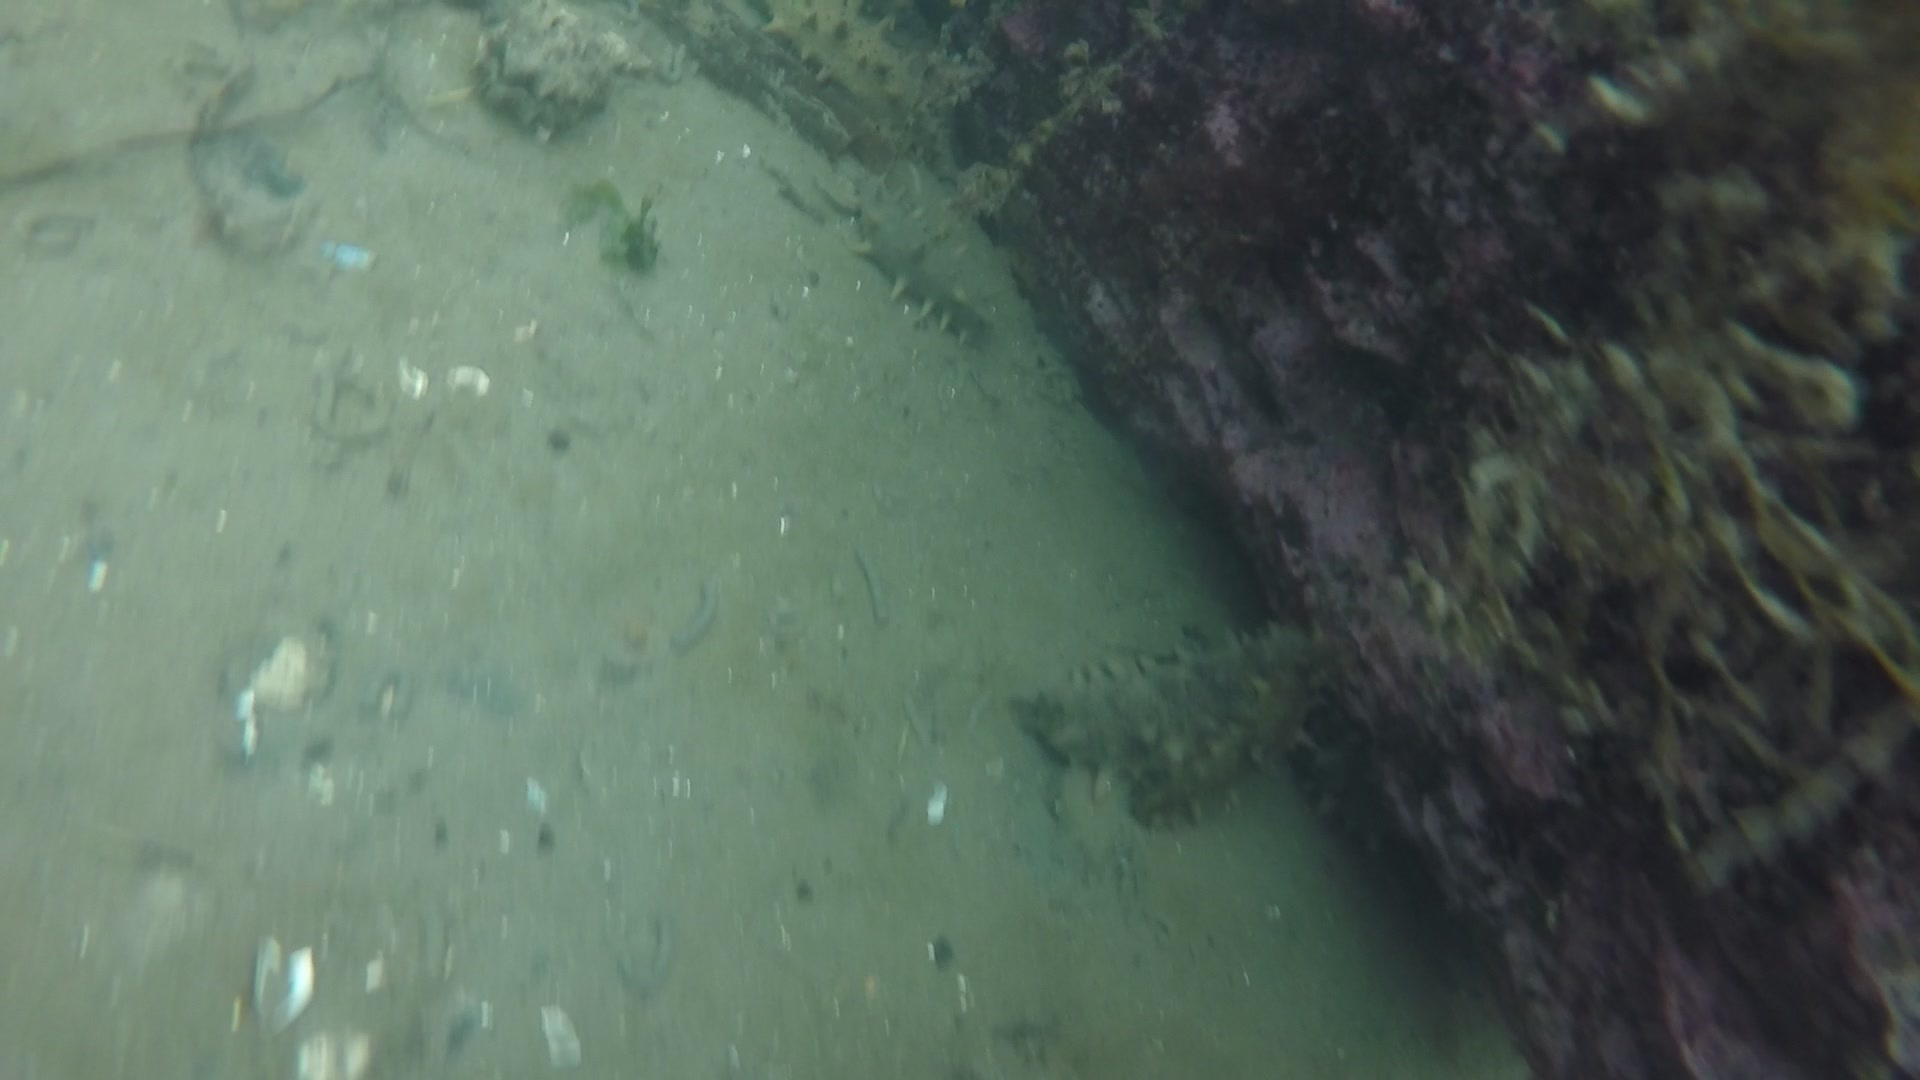holothurian: (1007, 611, 1337, 762), (831, 158, 1005, 353), (1131, 673, 1331, 823), (752, 1, 923, 125)
